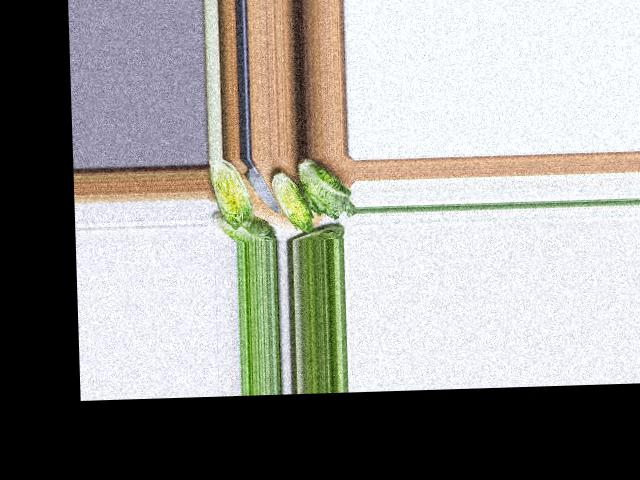lettuce: (213, 211, 275, 240)
